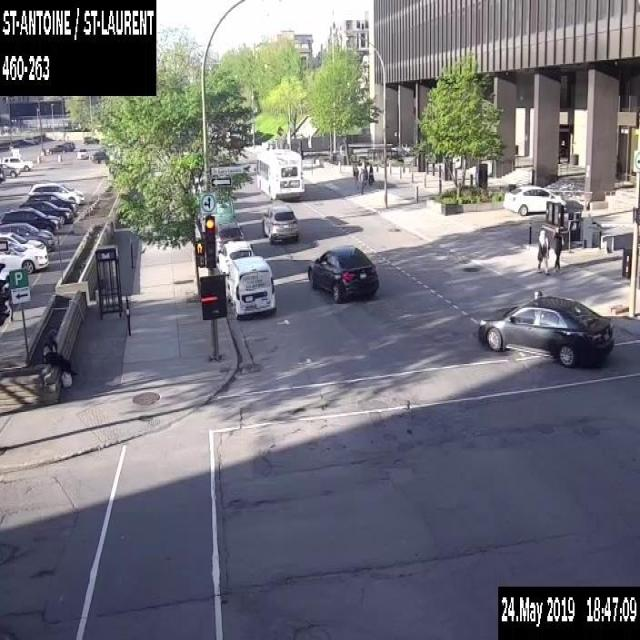bus: (253, 148, 304, 199)
construction: (274, 124, 284, 137)
pedestrian: (41, 328, 80, 388), (551, 224, 564, 272), (536, 228, 549, 274), (2, 274, 13, 320), (357, 165, 365, 193), (352, 162, 358, 188), (363, 164, 368, 186), (368, 163, 373, 184)
vehicle: (478, 293, 613, 368), (306, 241, 379, 303), (224, 254, 275, 318), (0, 205, 60, 232), (0, 240, 48, 272), (261, 202, 298, 243), (0, 221, 54, 248), (26, 181, 84, 204), (216, 240, 254, 275), (25, 192, 78, 216), (214, 217, 243, 260), (24, 200, 72, 222), (0, 230, 46, 249), (212, 198, 235, 226), (0, 155, 33, 170), (0, 163, 20, 177), (0, 278, 10, 306), (47, 143, 67, 154), (90, 150, 108, 162), (83, 134, 99, 142), (63, 140, 74, 151), (76, 148, 88, 158), (0, 170, 4, 182)
